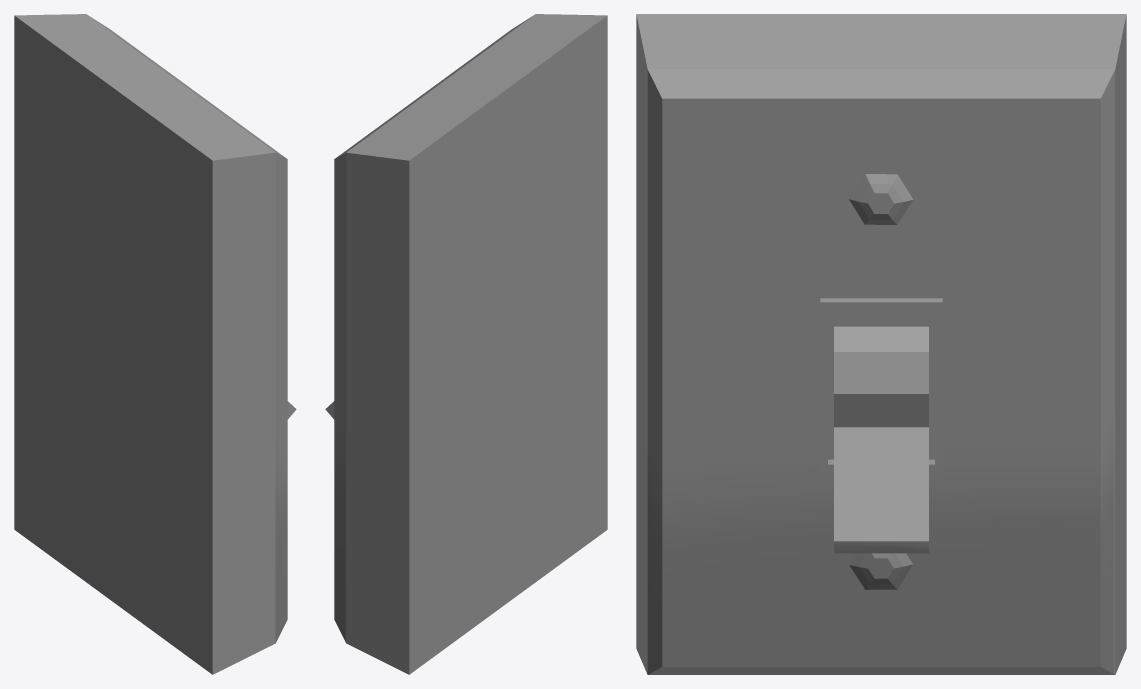
The model's file is LightSwitch.fbx.
3 renders of one model, left to right at view 1: azimuth 30°, elevation 25°; view 2: azimuth 150°, elevation 25°; view 3: azimuth 270°, elevation 25°, orthographic. The views are drawn at different scales.
Parts seen in each view (by area): view 1: Base; view 2: Base; view 3: Base, Switch.
Part boxes in pixels (box(x1,y1,x2,y2)): Base: box(14, 14, 287, 674); Base: box(334, 14, 607, 674); Base: box(636, 14, 1126, 674); Switch: box(834, 326, 928, 553).
Bounding box in the file's own units: 74.53 × 223 × 156.
